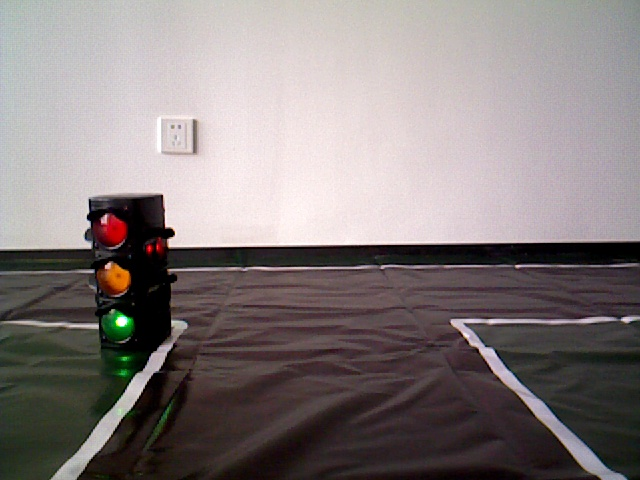green: (90, 200, 167, 337)
